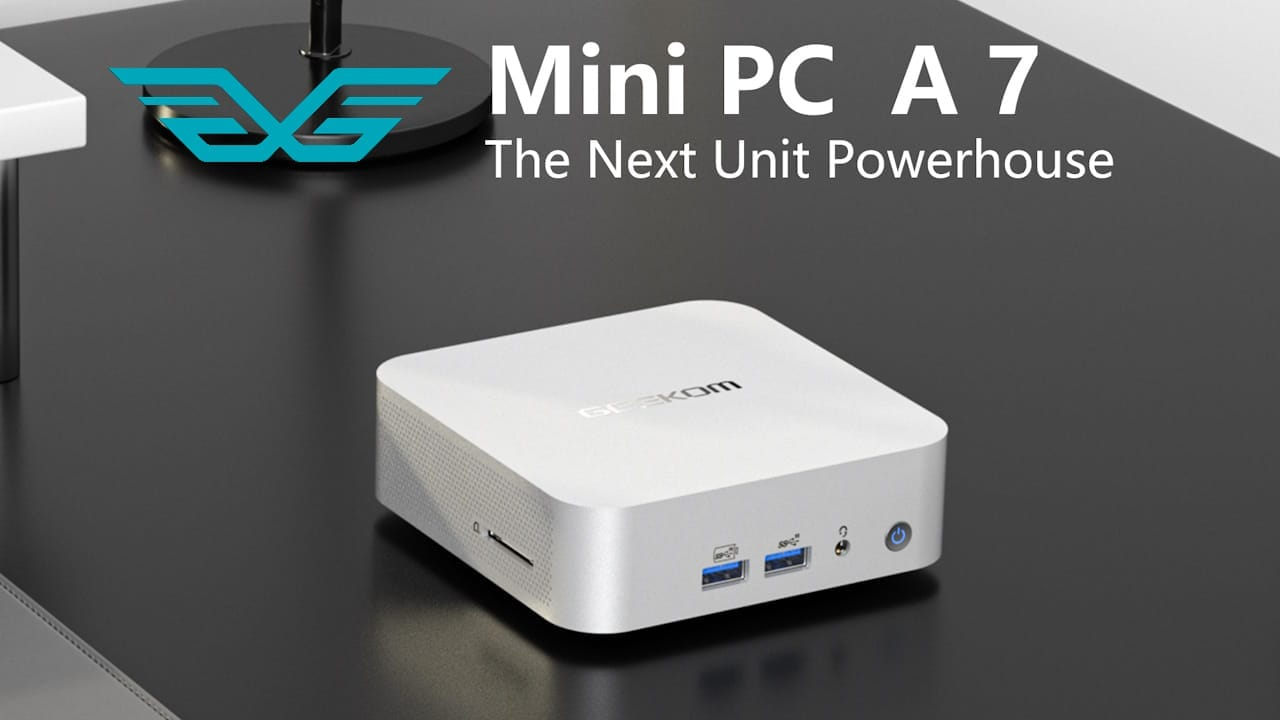Ordinateur: (469, 170, 659, 331)
